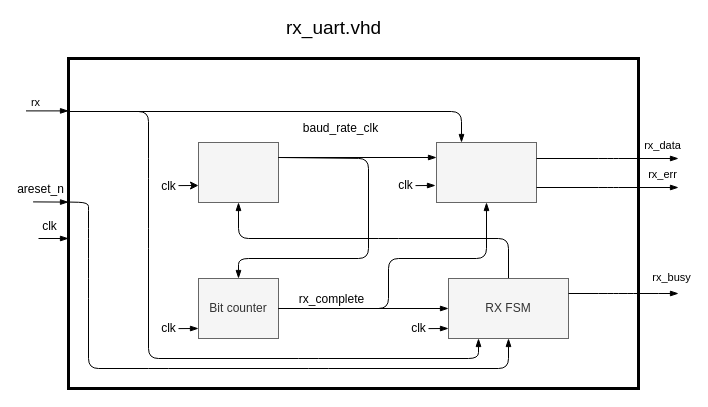
Image size: 708x407. Some labels were removed from this diagram. The centre of each missing label's shape, as x and y in pixels:
Baud rate generator: point (238, 172)
RX shift register: point (486, 172)
